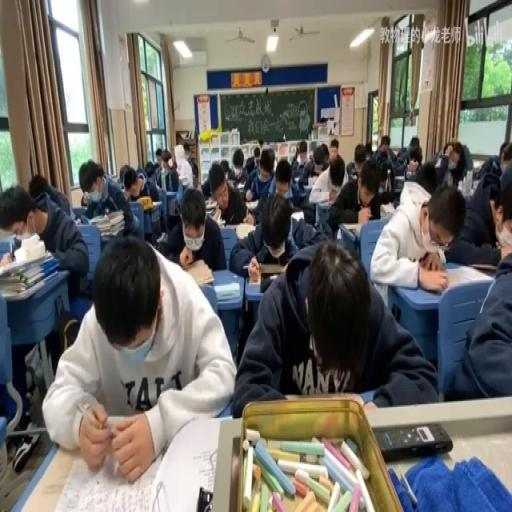calculator: (51, 438, 170, 512), (152, 414, 223, 512), (442, 263, 491, 289), (282, 391, 364, 404), (182, 258, 214, 284), (316, 199, 335, 235), (214, 282, 240, 300), (234, 222, 257, 240), (295, 181, 312, 202), (338, 220, 361, 234), (101, 220, 123, 234), (379, 200, 395, 218), (310, 189, 330, 202), (290, 210, 304, 228), (204, 196, 218, 212), (211, 205, 223, 222), (306, 175, 318, 188), (88, 213, 104, 222), (394, 175, 404, 189), (156, 230, 166, 244), (180, 174, 190, 188), (245, 199, 258, 209), (150, 199, 162, 208), (236, 180, 245, 190), (268, 273, 279, 279), (293, 176, 301, 184), (74, 216, 80, 225)
paper: (46, 232, 236, 478), (233, 234, 432, 416), (446, 178, 512, 401), (368, 179, 464, 299), (1, 179, 87, 296), (230, 189, 318, 276), (76, 160, 136, 240), (328, 155, 383, 235), (198, 160, 248, 228), (242, 145, 276, 213), (440, 138, 470, 186), (124, 165, 156, 209), (152, 148, 178, 190), (397, 138, 422, 179), (368, 132, 394, 168), (290, 140, 312, 180), (414, 161, 438, 196), (272, 157, 291, 199), (496, 189, 510, 243), (27, 174, 50, 204), (164, 188, 182, 226), (474, 155, 499, 181), (499, 164, 511, 196), (328, 165, 344, 188), (352, 144, 366, 169), (0, 223, 18, 242), (118, 164, 130, 186), (498, 141, 510, 162), (189, 158, 198, 186), (173, 144, 185, 165), (251, 145, 261, 169), (328, 138, 338, 162), (346, 159, 356, 181), (219, 159, 229, 178), (232, 154, 242, 172), (245, 155, 254, 174), (363, 142, 373, 158), (182, 142, 190, 158), (322, 154, 330, 170), (80, 192, 88, 206)
person: (373, 422, 452, 461), (196, 486, 213, 510), (258, 260, 284, 273)
